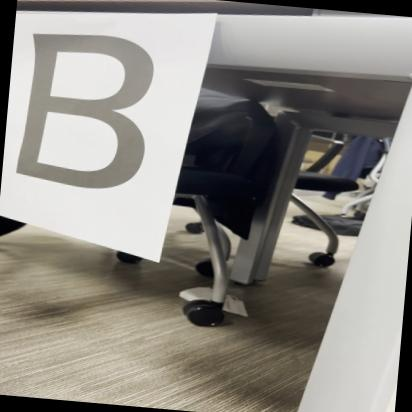seat: (15, 21, 170, 202)
